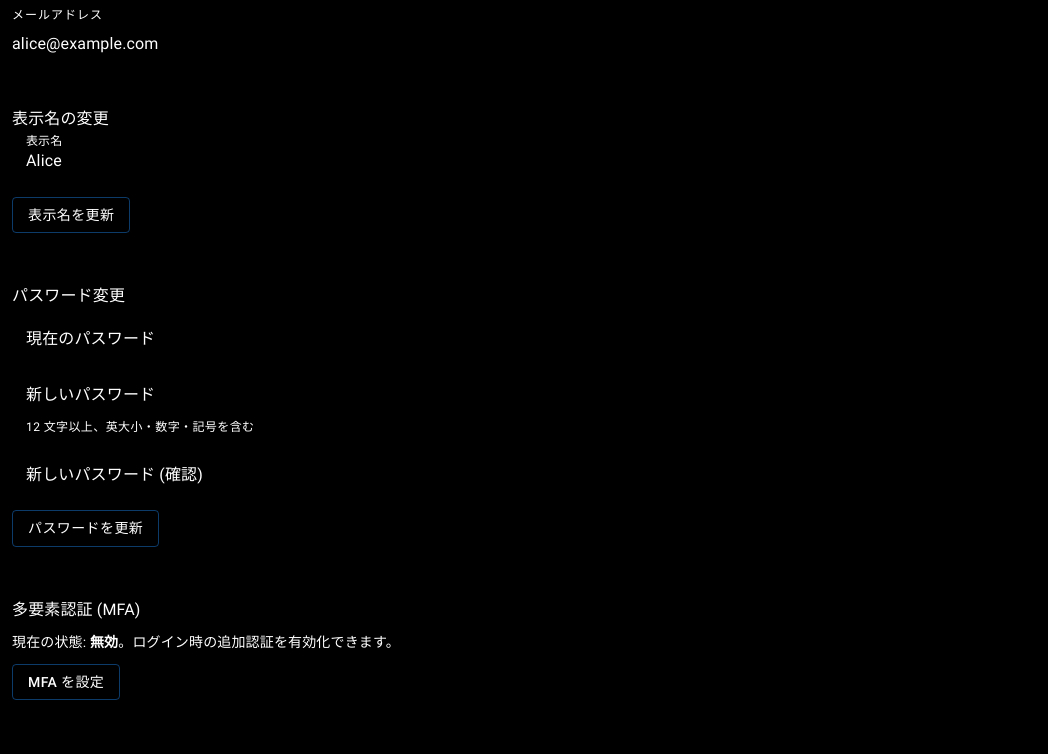
Test: ProfileScreen › blocks password change when confirmation does not match
Type "OldPass1!aaaa" into the password field with test id "profile-old-password" at (524, 338), box [12,318,1036,358]
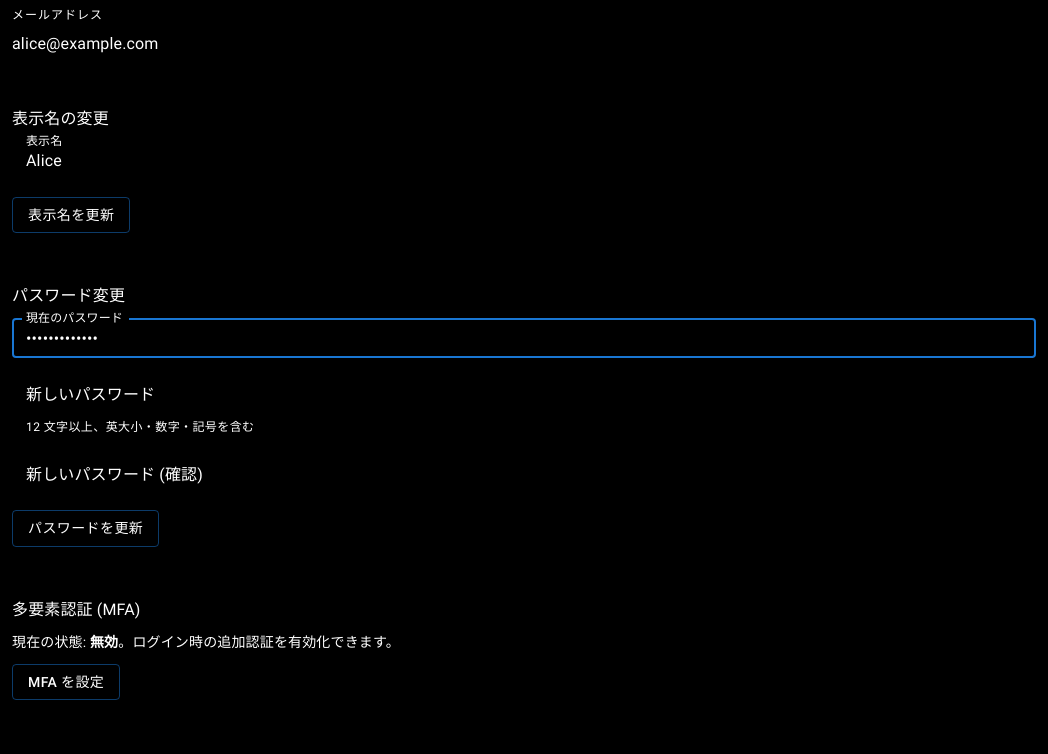
Type "StrongPass1!xyz" into the password field with test id "profile-new-password" at (524, 394), box [12,374,1036,414]
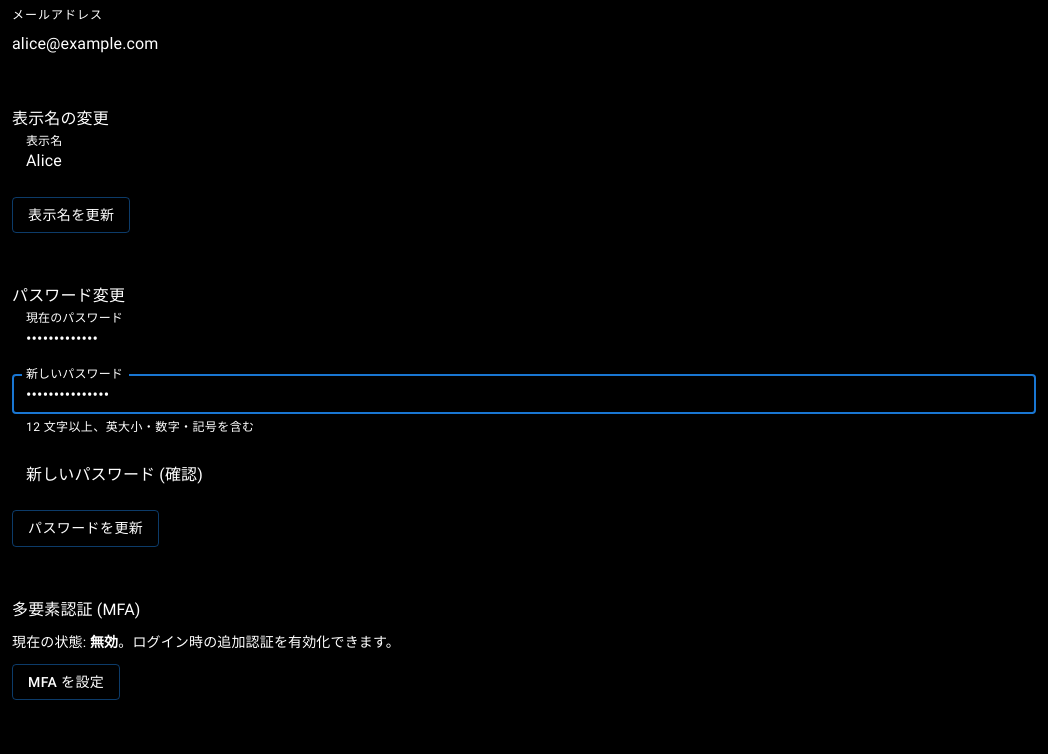
Type "Different1!xyz" into the password field with test id "profile-new-password-confirm" at (524, 474), box [12,454,1036,494]
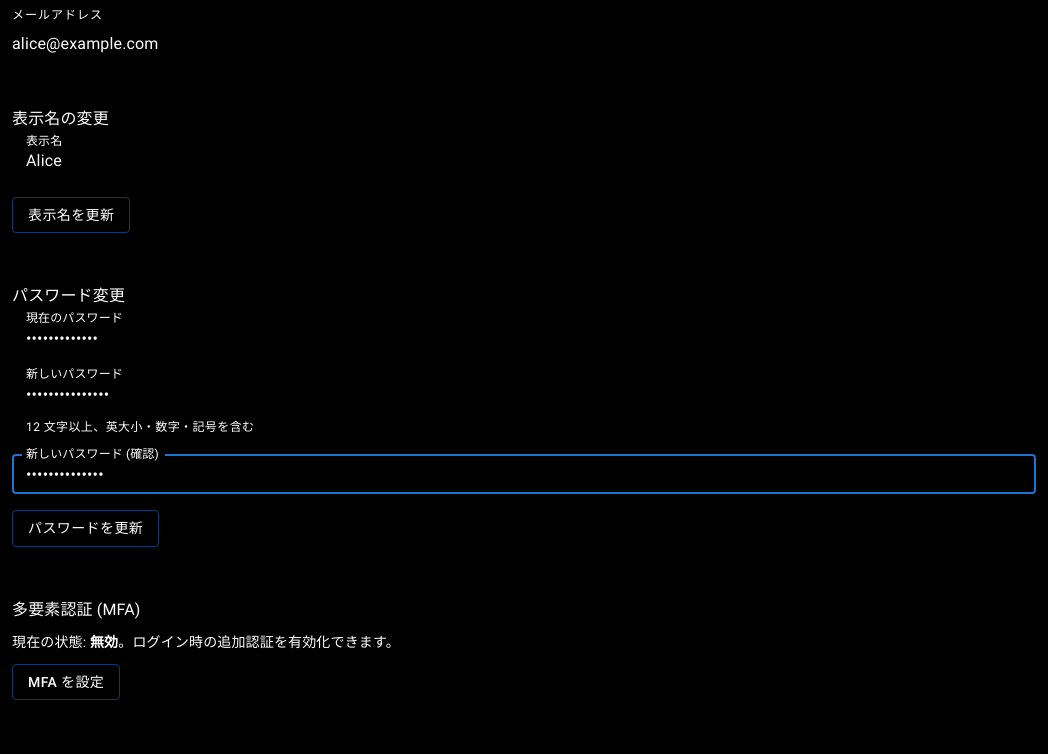
Click the button "パスワードを更新" at (86, 529), box [12,510,159,547]
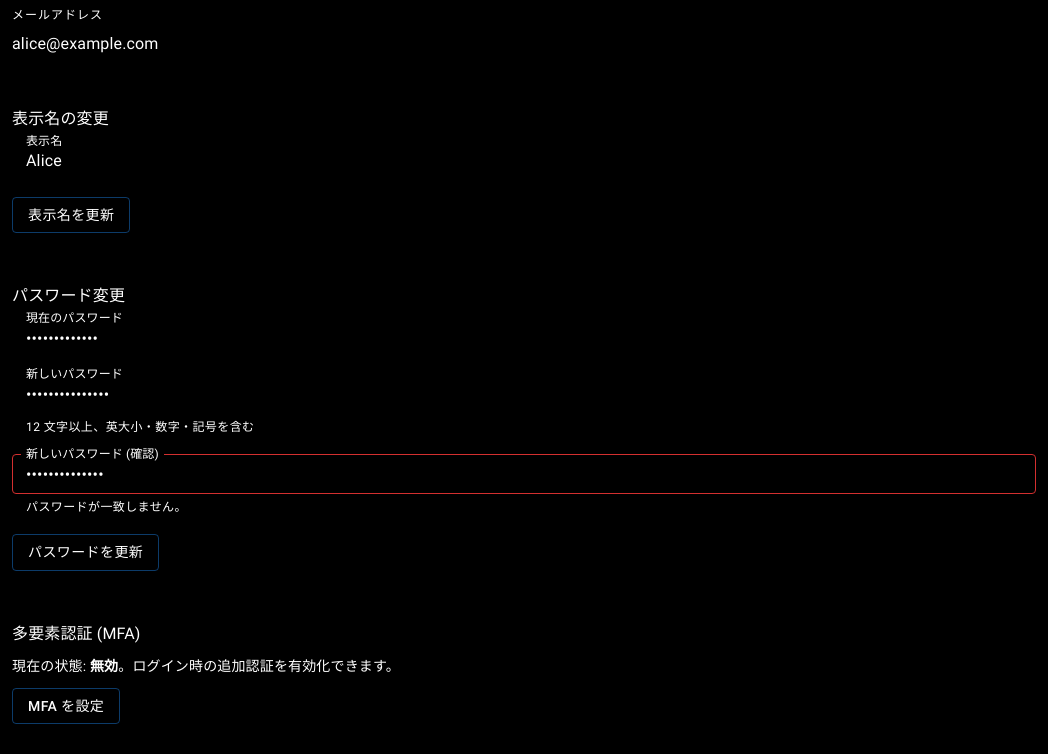
Expected: the text "パスワードが一致しません。" is shown, [26,500,187,514]
